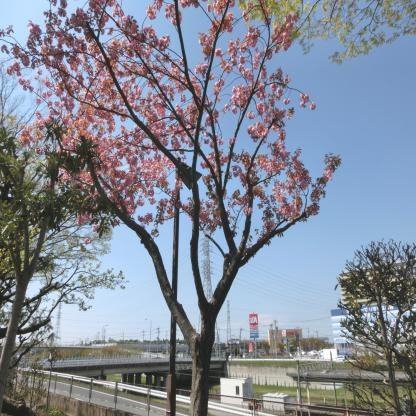YaeSakura: (0, 0, 345, 269)
